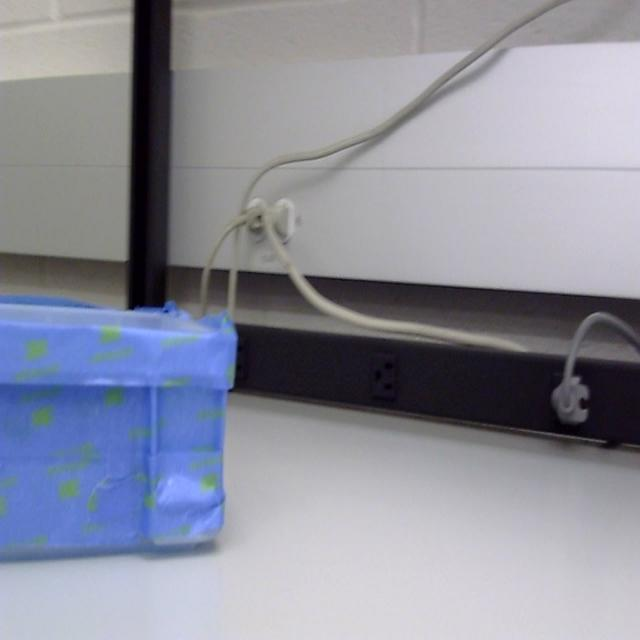bucket: (0, 296, 238, 565)
